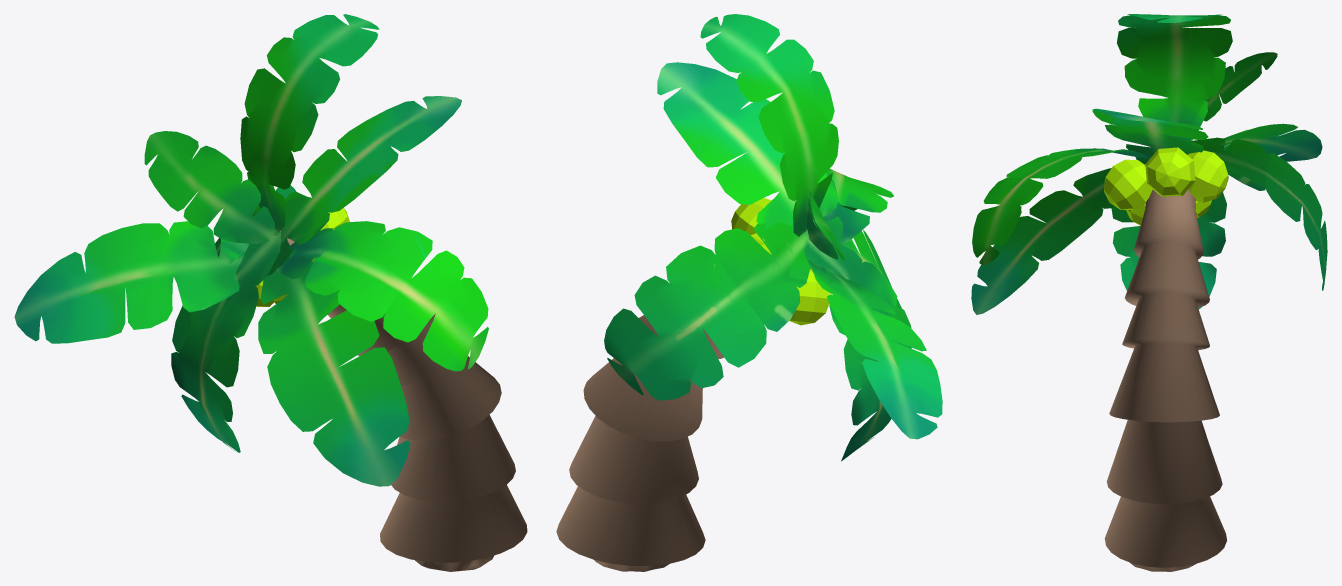
The model's file is ShortPalm_LowPolyPalmTextured.fbx.
The picture shows the model from 3 angles, left to right: view 1: azimuth 30°, elevation 25°; view 2: azimuth 150°, elevation 25°; view 3: azimuth 270°, elevation 25°; orthographic projection. The views are drawn at different scales.
Visible parts, largest first — view 1: pCylinder4; view 2: pCylinder4; view 3: pCylinder4.
Part boxes in pixels (x1,y1,x2,y2): pCylinder4: [14, 14, 527, 571]; pCylinder4: [556, 14, 942, 571]; pCylinder4: [971, 14, 1327, 571].
Bounding box in the file's own units: 781 × 961 × 618.
